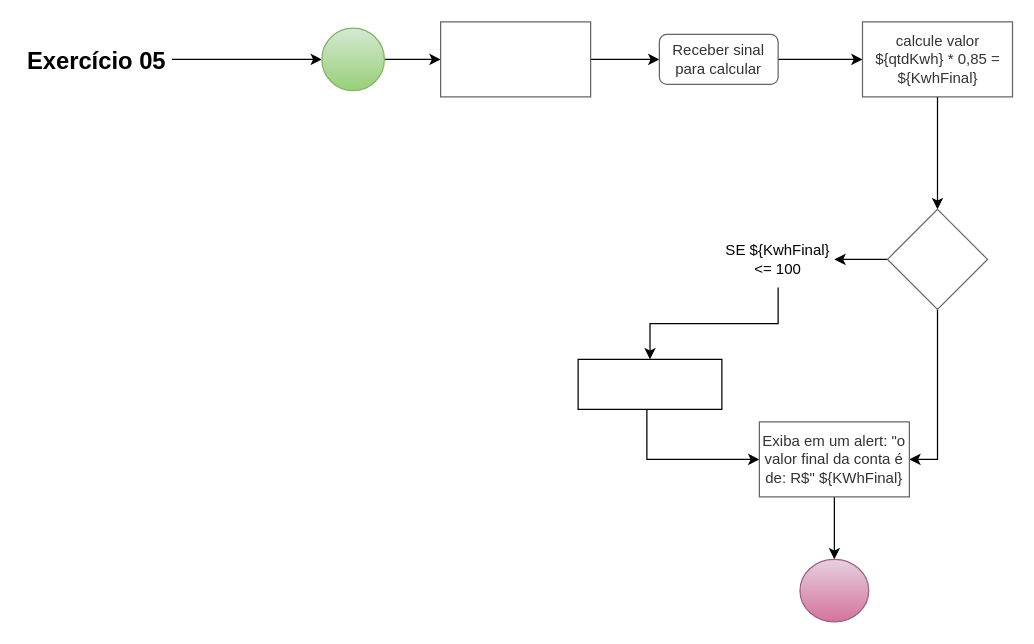
This 1034x644 diagram has some shape labels left out. The box of each missing label's shape, as (x1, y1, x2, y2) in pixels:
Leia "quantidade de KWh consumida no mês" ${qtdKwh}: (439, 21, 591, 97)
subtrair 10% de ${KWhFinal} em ${KWhFinal}: (577, 358, 722, 409)
